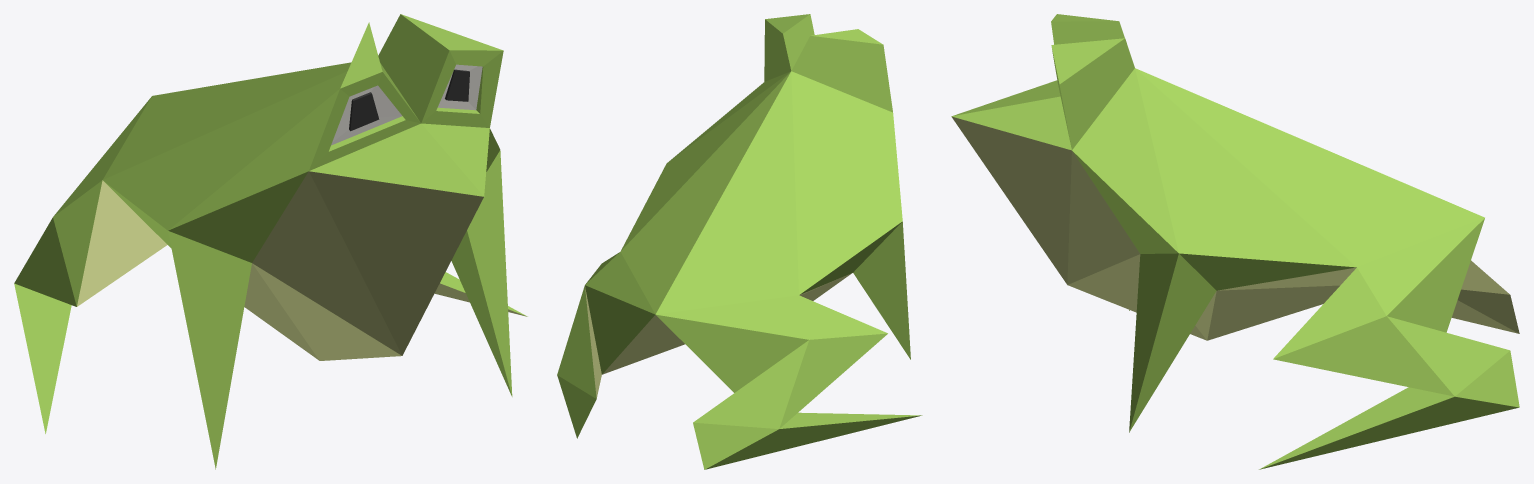
Rendered from frog_fat.fbx.
3 views of the same model, side by side, from view 1: azimuth 30°, elevation 25°; view 2: azimuth 150°, elevation 25°; view 3: azimuth 270°, elevation 25° (orthographic). The views are drawn at different scales.
Parts seen in each view (by area): view 1: rana60.001; view 2: rana60.001; view 3: rana60.001.
Boxes of the visible parts, <box> form: rana60.001: <box>14,14,527,469</box>; rana60.001: <box>557,14,922,469</box>; rana60.001: <box>951,14,1519,469</box>.
Size of the model in its own units: 74.55 by 61.39 by 90.23.
